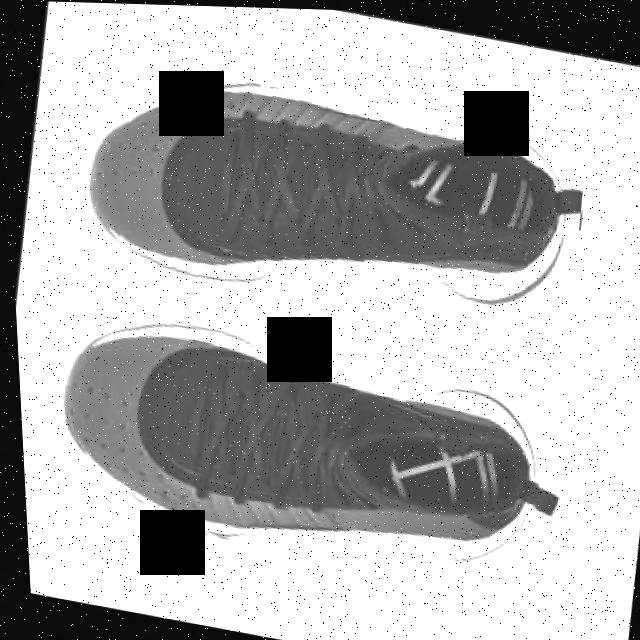shoe: (64, 53, 595, 355), (38, 300, 557, 593)
